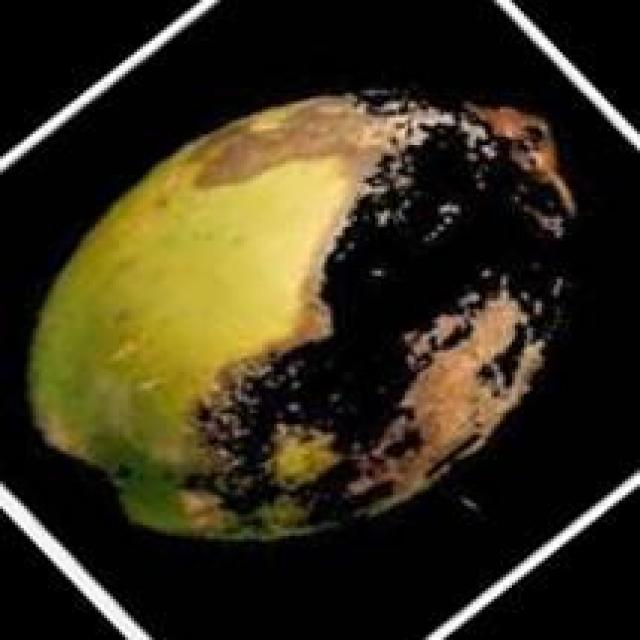damaged: (21, 88, 598, 544)
